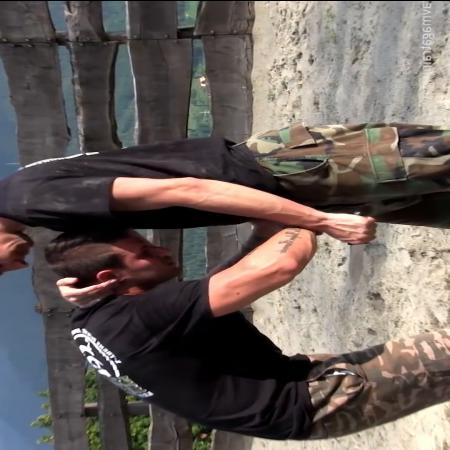long weapon: (335, 206, 379, 289)
